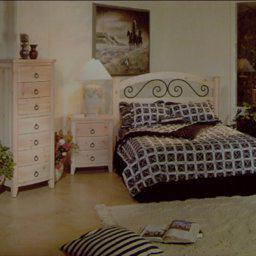Armario: (5, 56, 53, 198)
Otro Obstaculo: (61, 210, 164, 255), (142, 212, 200, 246)
